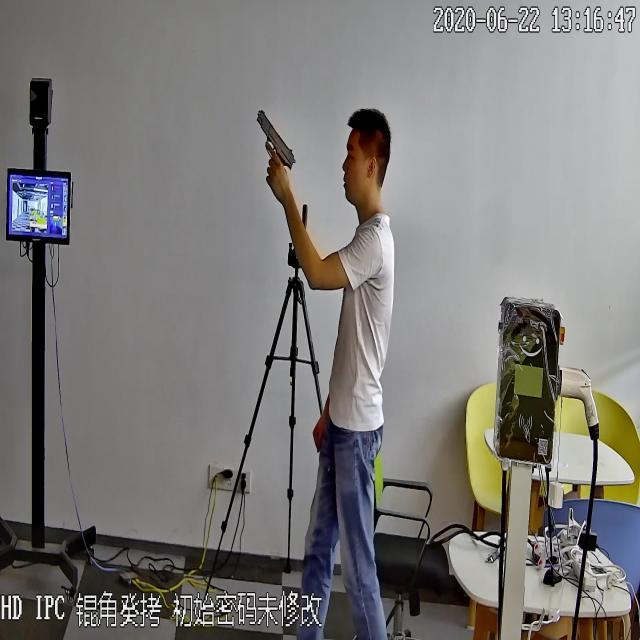gun-knife-thesis - v11 Yolov5 augmented: (253, 102, 297, 188)
